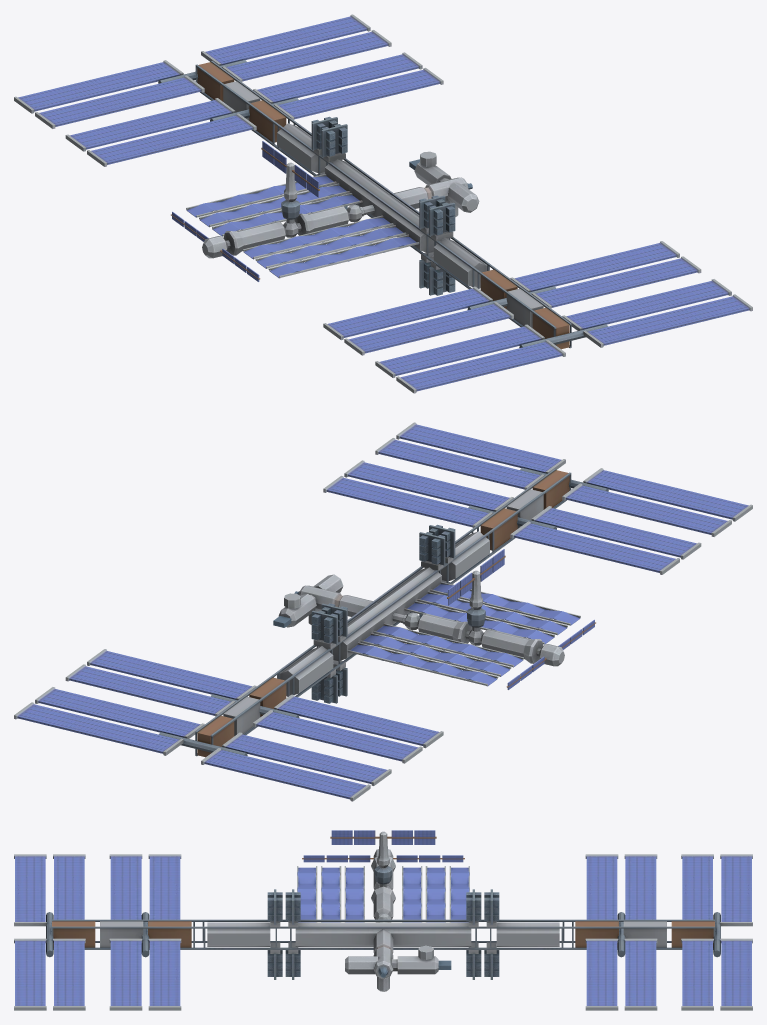
Rendered from pp-space-station.glb.
3 views of the same model, one above another, from view 1: azimuth 30°, elevation 25°; view 2: azimuth 150°, elevation 25°; view 3: azimuth 270°, elevation 25° (orthographic). The views are drawn at different scales.
Visible parts, largest first — view 1: InternationalSpaceStation_mesh; view 2: InternationalSpaceStation_mesh; view 3: InternationalSpaceStation_mesh.
Boxes of the visible parts, bbox=[...] form: InternationalSpaceStation_mesh: bbox=[14, 14, 752, 393]; InternationalSpaceStation_mesh: bbox=[14, 422, 752, 801]; InternationalSpaceStation_mesh: bbox=[14, 830, 752, 1010].
Bounding box in the file's own units: 0.889 × 0.2698 × 1.77.
Materials: 1 (1 with a texture image).
